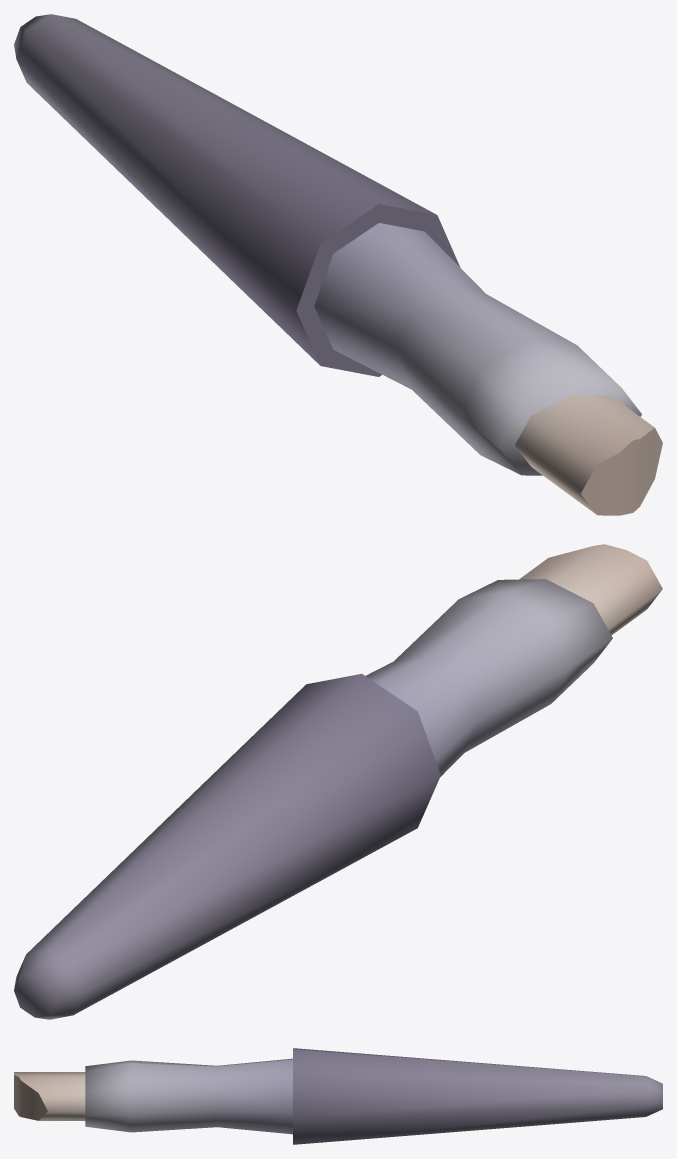
Rendered from makeup-brush-d.glb.
3 views of the same model, one above another, from view 1: azimuth 30°, elevation 25°; view 2: azimuth 150°, elevation 25°; view 3: azimuth 270°, elevation 25° (orthographic). The views are drawn at different scales.
Visible parts, largest first — view 1: makeup-brush-d; view 2: makeup-brush-d; view 3: makeup-brush-d.
Part boxes in pixels (box(x1,y1,x2,y2)): makeup-brush-d: box(14, 14, 662, 515); makeup-brush-d: box(14, 544, 662, 1019); makeup-brush-d: box(14, 1048, 662, 1144).
Bounding box in the file's own units: 0.0532 × 0.0532 × 0.3354.
